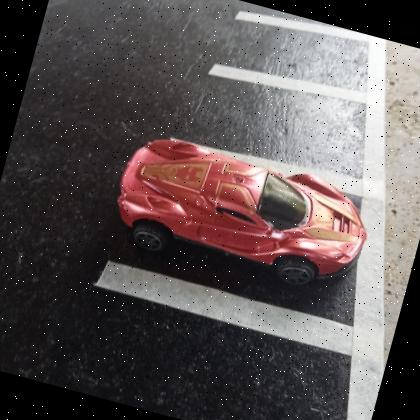Car: (116, 139, 367, 291)
